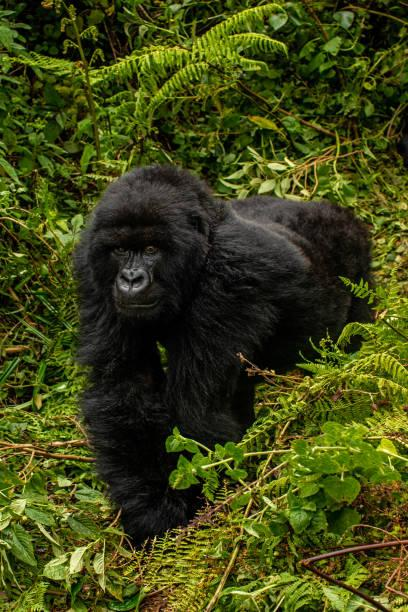goriile_montagne: (57, 129, 369, 538)
